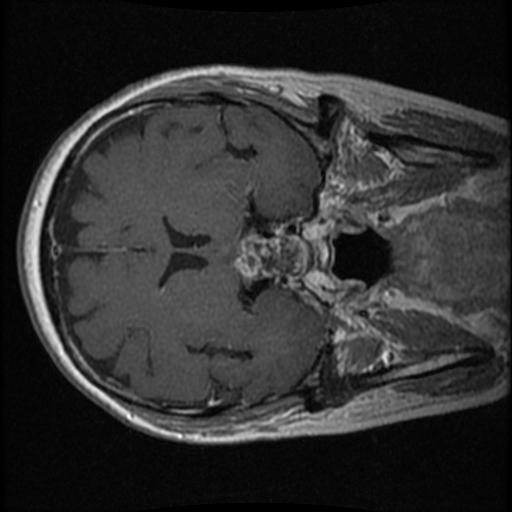pituitary tumour: (237, 234, 308, 278)
